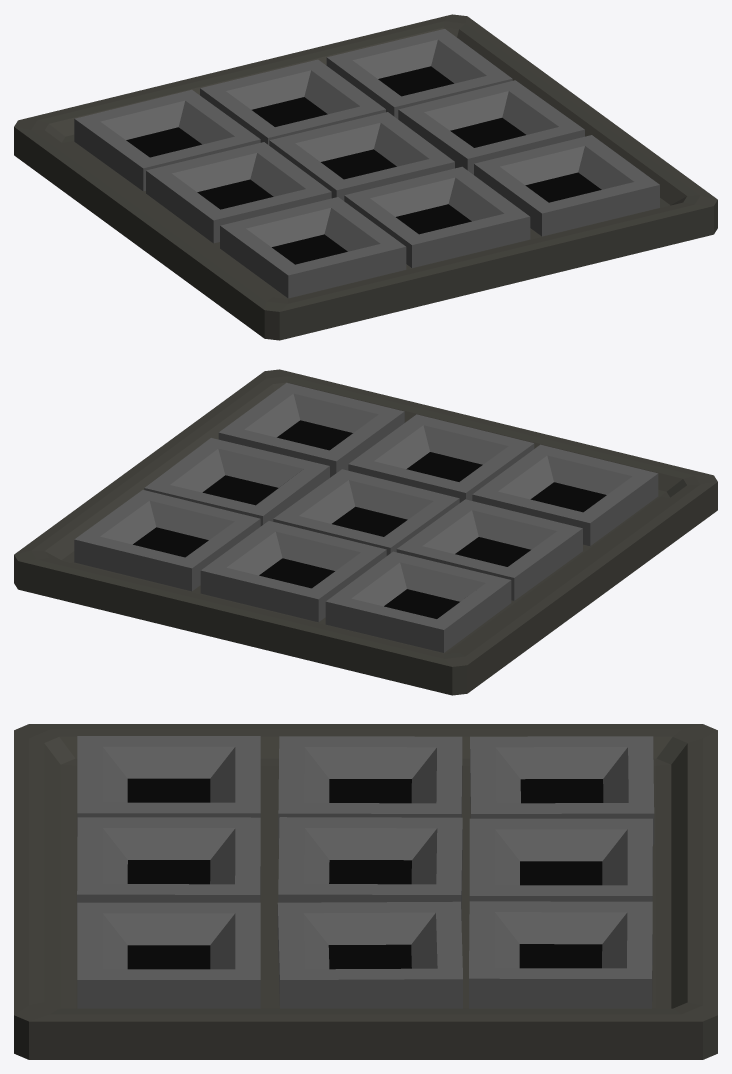
File: trap_under.fbx
The picture shows the model from 3 angles, top to bottom: view 1: azimuth 30°, elevation 25°; view 2: azimuth 150°, elevation 25°; view 3: azimuth 270°, elevation 25°; orthographic projection. The views are drawn at different scales.
Visible parts, largest first — view 1: Floor_Fire_Trap; view 2: Floor_Fire_Trap; view 3: Floor_Fire_Trap.
Boxes of the visible parts, x1,y1,x2,y2 form: Floor_Fire_Trap: [14, 14, 717, 340]; Floor_Fire_Trap: [14, 369, 717, 695]; Floor_Fire_Trap: [14, 724, 717, 1059].
Size of the model in its own units: 1 by 0.086 by 1.
